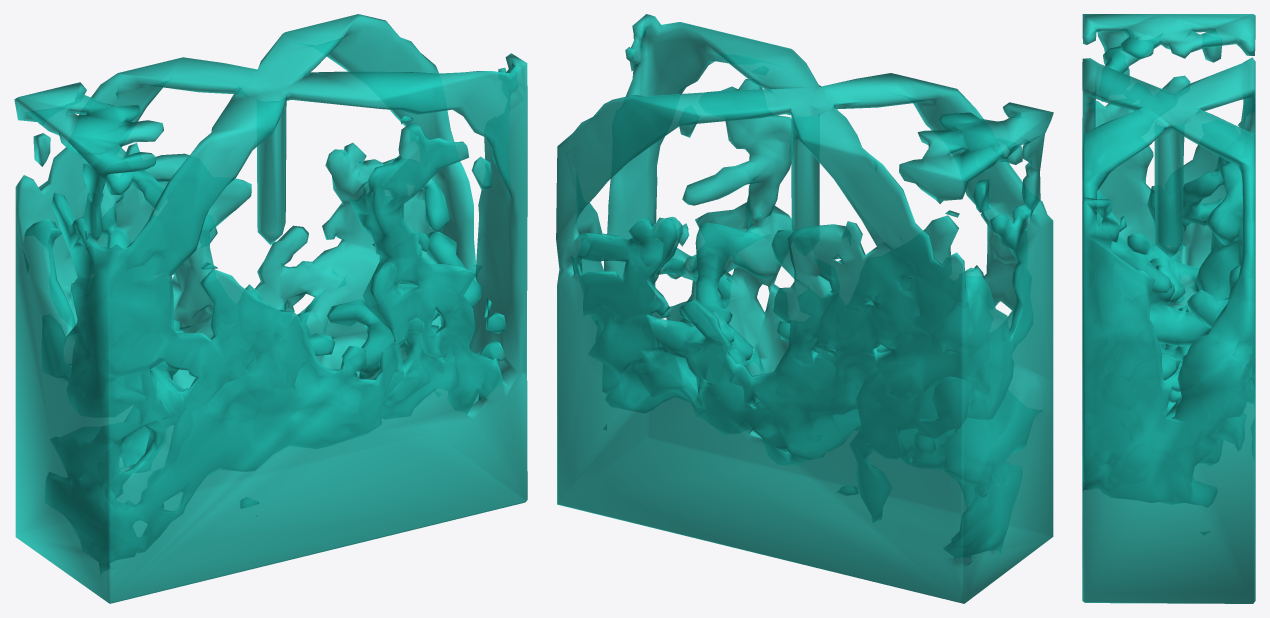
The picture shows the model from 3 angles, left to right: view 1: azimuth 30°, elevation 25°; view 2: azimuth 150°, elevation 25°; view 3: azimuth 270°, elevation 25°; orthographic projection. The views are drawn at different scales.
Visible parts, largest first — view 1: Liquid_Domain; view 2: Liquid_Domain; view 3: Liquid_Domain.
Part boxes in pixels (<box>): Liquid_Domain: <box>14,14,527,603</box>; Liquid_Domain: <box>556,14,1053,603</box>; Liquid_Domain: <box>1082,14,1255,603</box>.
Bounding box in the file's own units: 1965 × 1965 × 766.
